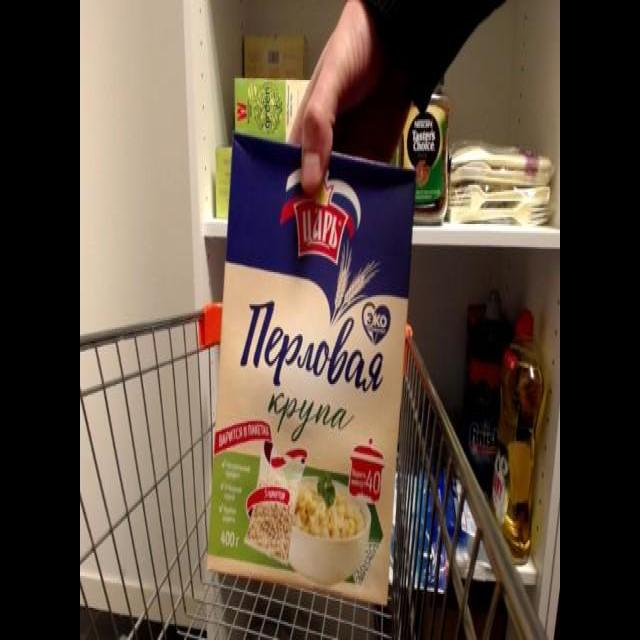Groats: (202, 123, 420, 608)
